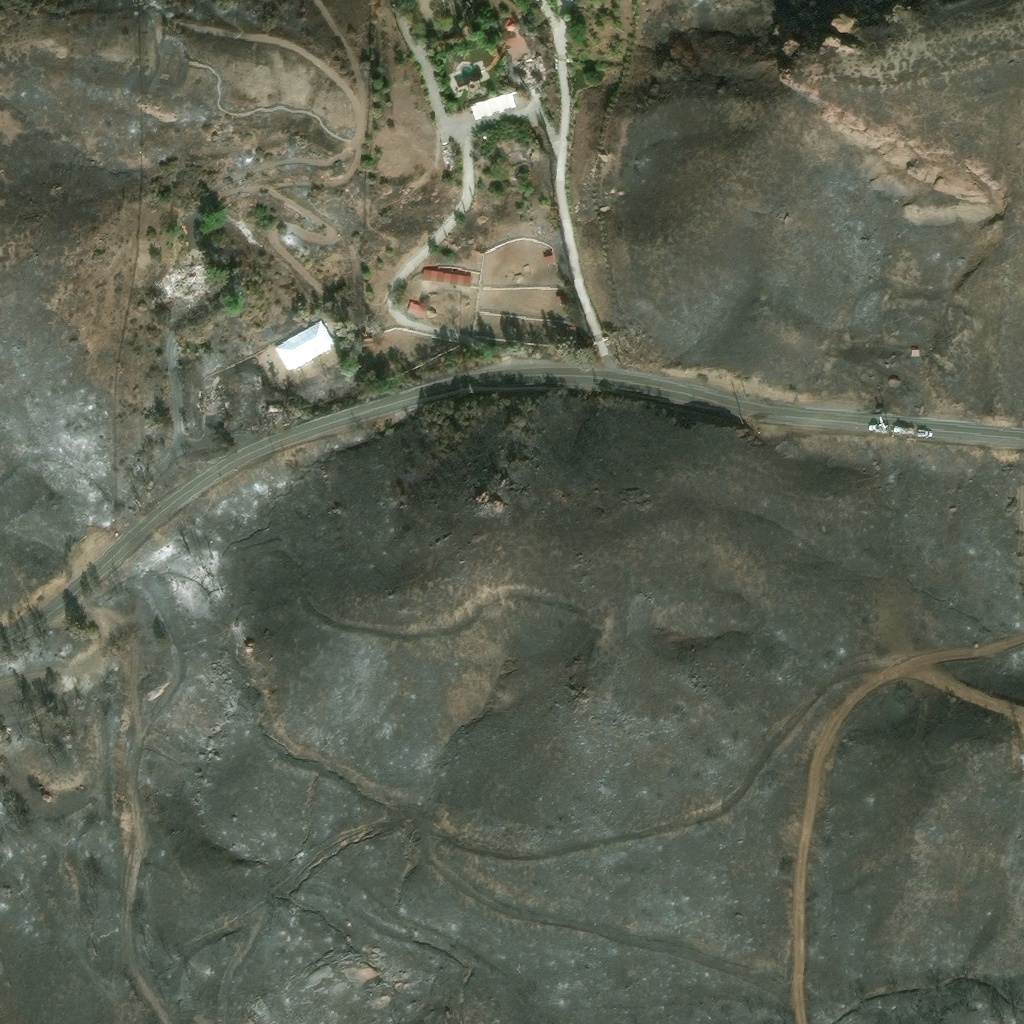0 no-damage: (468, 90, 517, 120), (422, 268, 473, 286), (503, 18, 516, 32), (409, 300, 420, 312), (364, 337, 375, 346), (545, 254, 554, 262)
3 destroyed: (503, 32, 545, 79), (155, 268, 209, 299), (201, 386, 227, 411), (41, 792, 60, 805), (911, 348, 920, 358), (441, 137, 449, 145), (213, 335, 219, 341)
